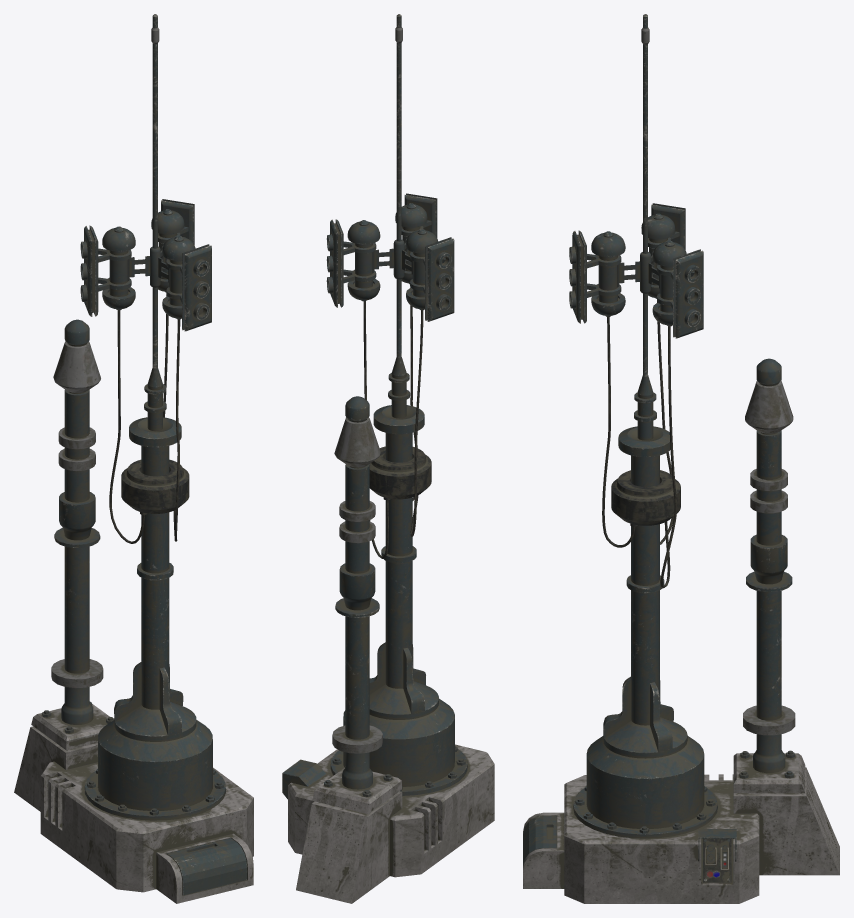
Rendered from sw-short-range-antenna.glb.
3 renders of one model, left to right at view 1: azimuth 30°, elevation 25°; view 2: azimuth 150°, elevation 25°; view 3: azimuth 270°, elevation 25°, orthographic. The views are drawn at different scales.
Parts seen in each view (by area): view 1: antenna_Baked, sender_Baked; view 2: antenna_Baked, sender_Baked; view 3: antenna_Baked, sender_Baked, panel.001_Baked.
Part boxes in pixels (box(x1,y1,x2,y2)): antenna_Baked: box(14, 14, 253, 903); sender_Baked: box(80, 199, 211, 543); antenna_Baked: box(282, 14, 494, 903); sender_Baked: box(326, 193, 454, 558); antenna_Baked: box(523, 14, 839, 903); sender_Baked: box(569, 203, 703, 588); panel.001_Baked: box(703, 838, 731, 882).
Size of the model in its own units: 0.8395 by 4.63 by 1.56.
1 material, 1 textured.
